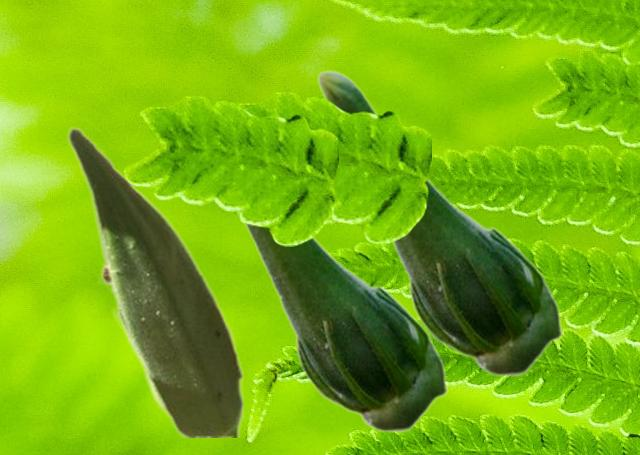okra: (316, 69, 562, 376), (66, 125, 242, 436), (238, 218, 447, 432)
